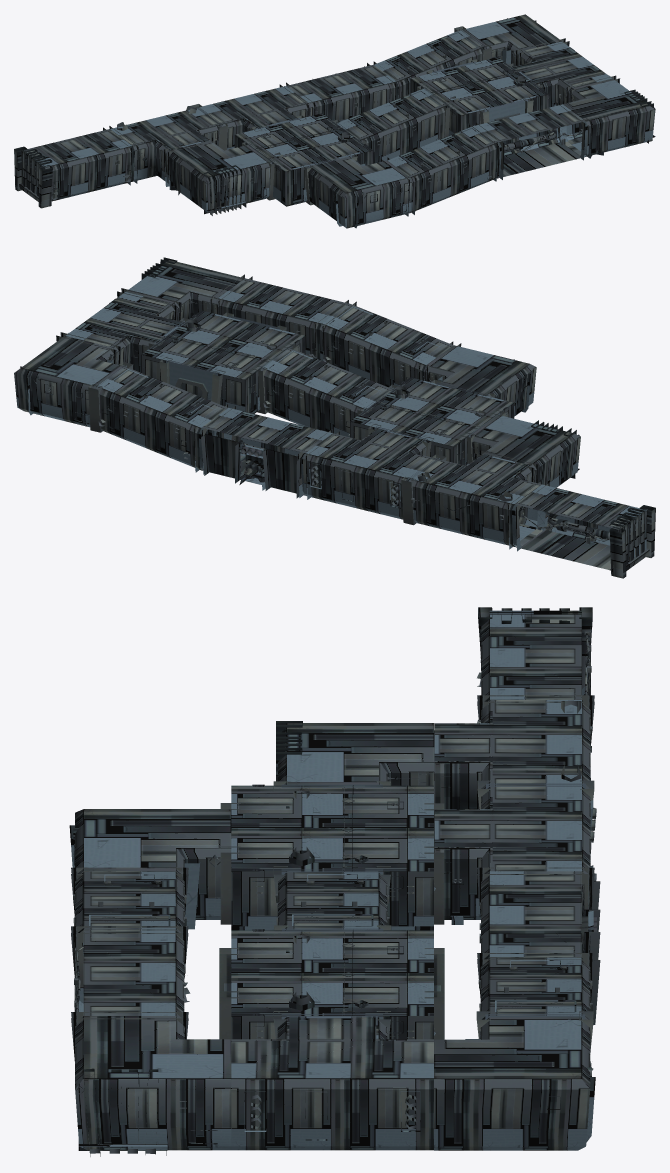
Rendered from Combined_Mesh_root_scene__3_4fde1142__zombies2_diffuse_03_64bb9bc2_c1f257.obj.
3 renders of one model, top to bottom at view 1: azimuth 30°, elevation 25°; view 2: azimuth 150°, elevation 25°; view 3: azimuth 270°, elevation 25°, orthographic. The views are drawn at different scales.
Size of the model in its own units: 117 by 12.76 by 52.4.
Materials: 230 (230 with a texture image).
